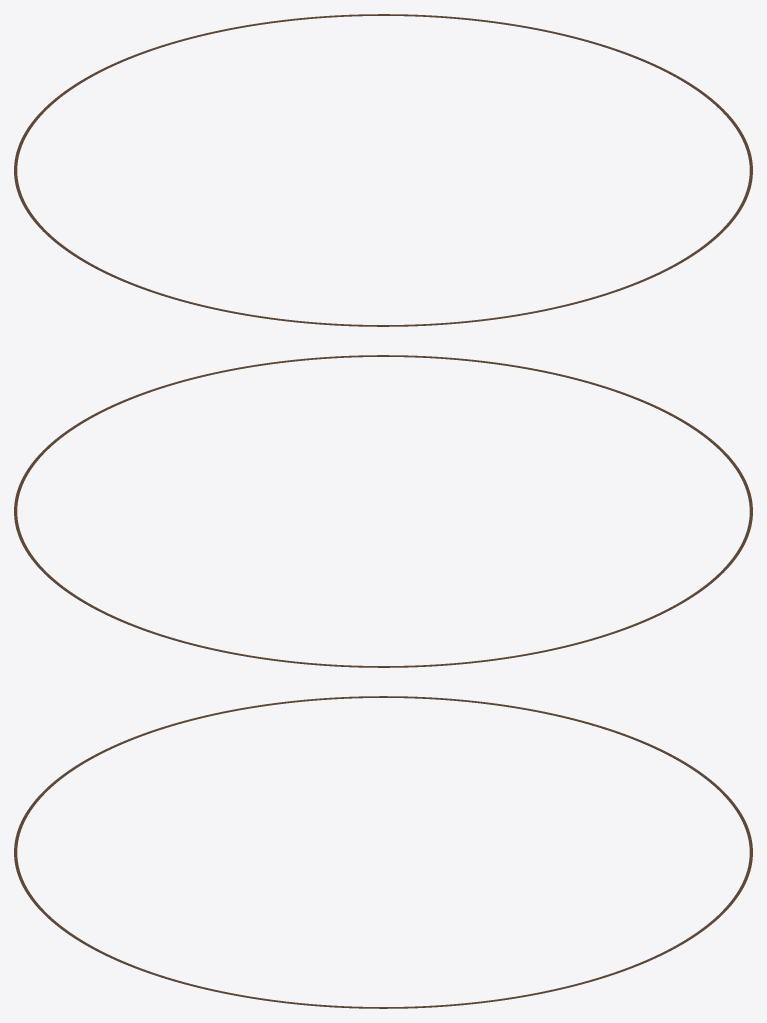
Rendered from outer_border.dae.
The picture shows the model from 3 angles, top to bottom: view 1: azimuth 30°, elevation 25°; view 2: azimuth 150°, elevation 25°; view 3: azimuth 270°, elevation 25°; orthographic projection.
Visible parts, largest first — view 1: outer_border; view 2: outer_border; view 3: outer_border.
Boxes of the visible parts, <box> form: outer_border: <box>14,14,752,326</box>; outer_border: <box>14,355,752,667</box>; outer_border: <box>14,696,752,1008</box>.
Size of the model in its own units: 170 by 170 by 0.1.
